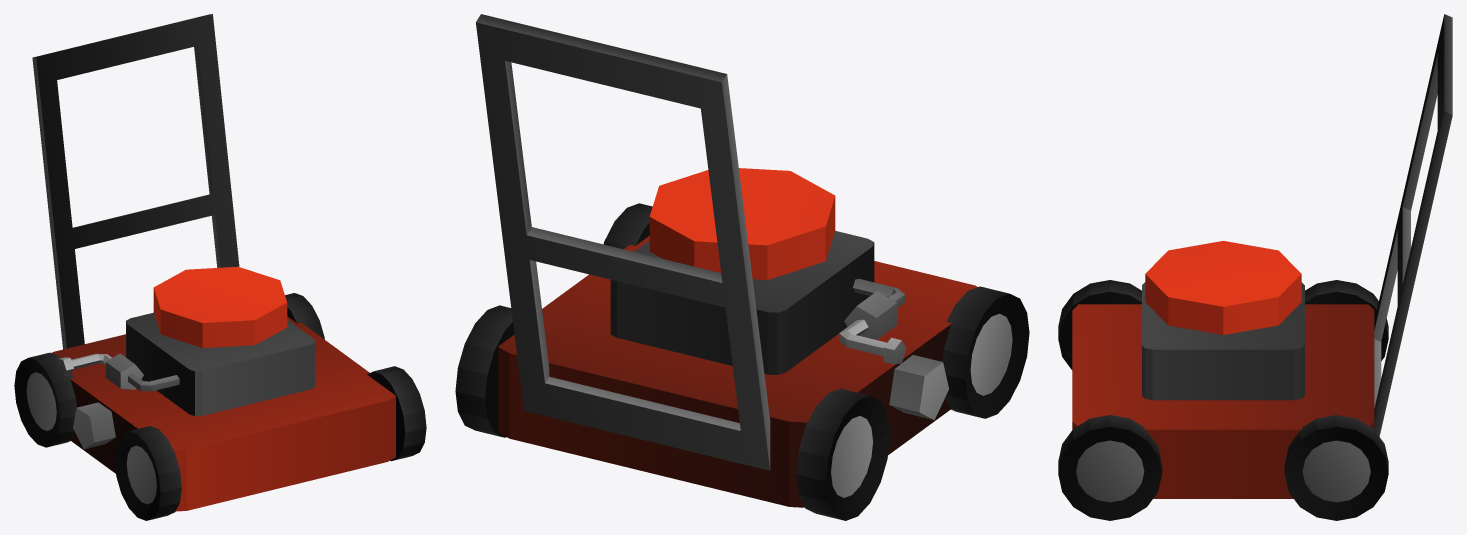
The model's file is SM_Lawnmower.fbx.
3 renders of one model, left to right at view 1: azimuth 30°, elevation 25°; view 2: azimuth 150°, elevation 25°; view 3: azimuth 270°, elevation 25°, orthographic. The views are drawn at different scales.
Visible parts, largest first — view 1: Lawnmower_Body, Lawnmower_handel, Lawnmower_starter; view 2: Lawnmower_Body, Lawnmower_handel, Lawnmower_starter; view 3: Lawnmower_Body, Lawnmower_handel.
Boxes of the visible parts, x1,y1,x2,y2 form: Lawnmower_Body: (14, 266, 426, 520); Lawnmower_handel: (32, 14, 239, 349); Lawnmower_starter: (57, 353, 179, 449); Lawnmower_Body: (455, 168, 1029, 520); Lawnmower_handel: (476, 14, 770, 470); Lawnmower_starter: (839, 279, 948, 419); Lawnmower_Body: (1058, 241, 1388, 520); Lawnmower_handel: (1374, 14, 1452, 436).
Bounding box in the file's own units: 1.36 × 1.64 × 1.52.
